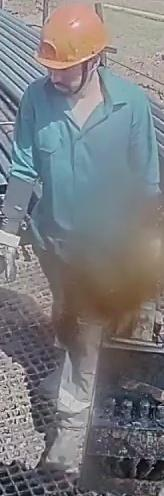gloves: (0, 205, 25, 282)
helmet: (34, 2, 109, 70)
vest: (26, 65, 161, 269)
